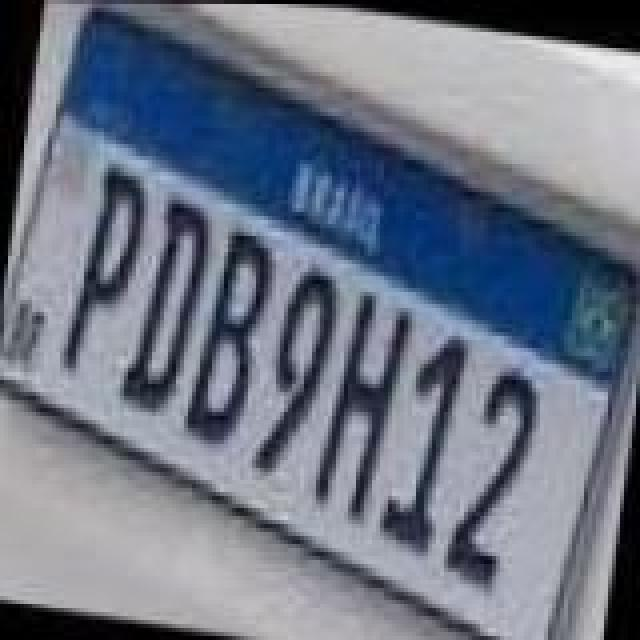1: (372, 322, 468, 558)
2: (438, 358, 542, 594)
9: (246, 260, 342, 484)
B: (176, 216, 280, 452)
D: (114, 188, 214, 420)
H: (310, 282, 414, 522)
P: (58, 156, 154, 384)
